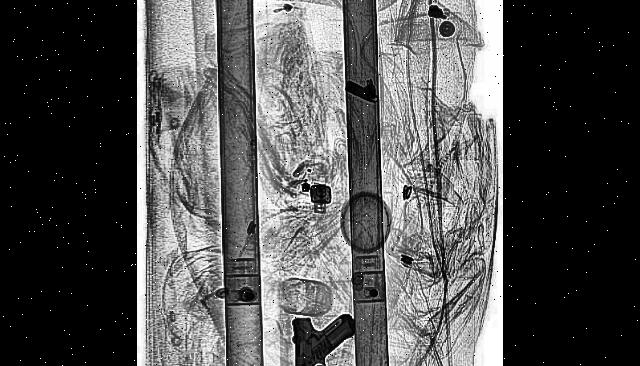Gun: (290, 310, 357, 366)
